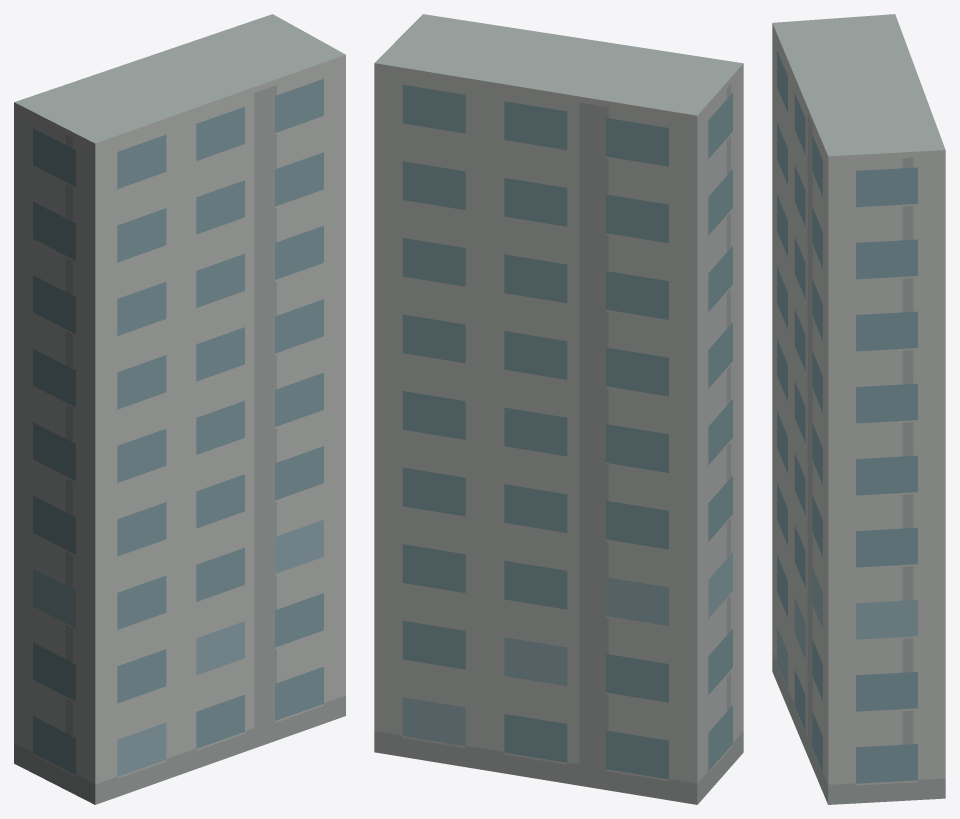
File: survey-upis-32630947.glb
3 views of the same model, side by side, from view 1: azimuth 30°, elevation 25°; view 2: azimuth 150°, elevation 25°; view 3: azimuth 270°, elevation 25° (orthographic). The views are drawn at different scales.
Parts seen in each view (by area): view 1: survey-upis-32630947.tmp; view 2: survey-upis-32630947.tmp; view 3: survey-upis-32630947.tmp.
Boxes of the visible parts, x1=… form: survey-upis-32630947.tmp: x1=14, y1=14, x2=345, y2=804; survey-upis-32630947.tmp: x1=374, y1=14, x2=743, y2=804; survey-upis-32630947.tmp: x1=772, y1=14, x2=945, y2=804.
Bounding box in the file's own units: 12.94 × 27.45 × 6.66.
